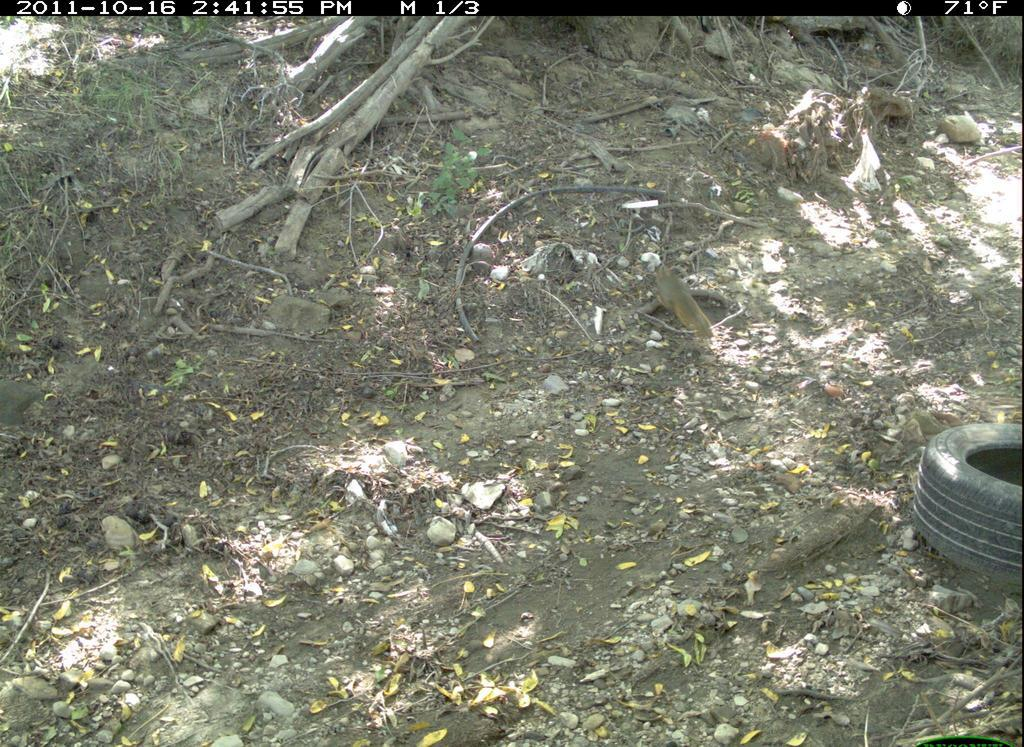squirrel: (652, 262, 721, 345)
